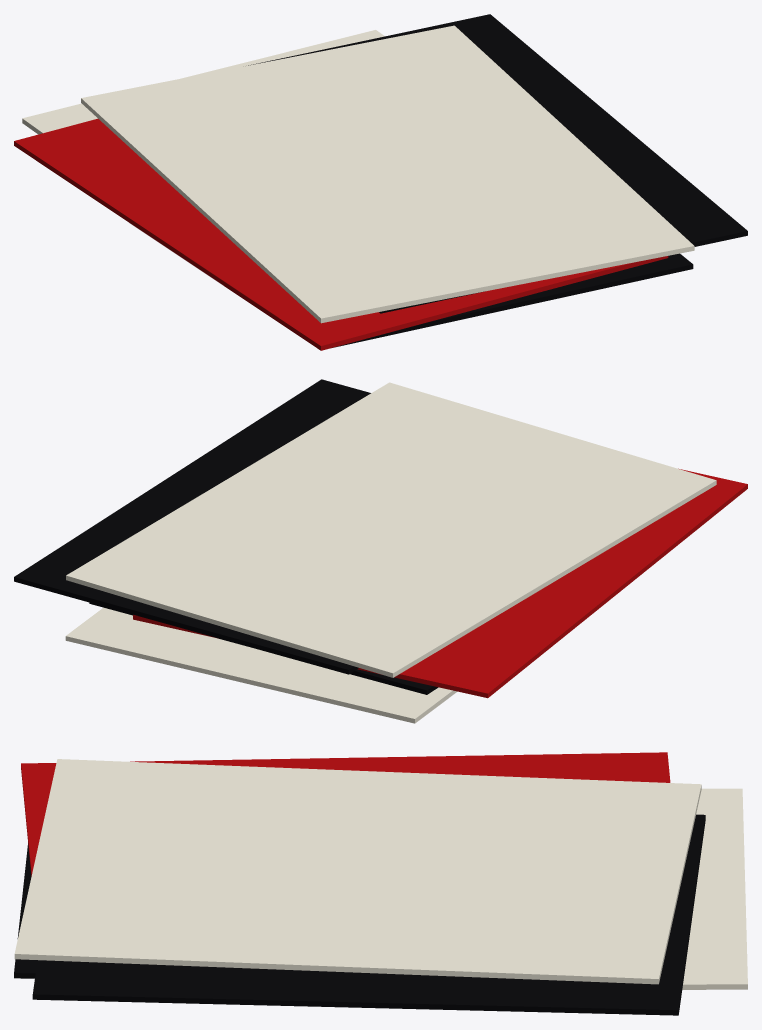
The model's file is Item_OR_Cards_14.glb.
3 views of the same model, one above another, from view 1: azimuth 30°, elevation 25°; view 2: azimuth 150°, elevation 25°; view 3: azimuth 270°, elevation 25° (orthographic). The views are drawn at different scales.
Visible parts, largest first — view 1: Item_OR_Cards_14; view 2: Item_OR_Cards_14; view 3: Item_OR_Cards_14.
Boxes of the visible parts, x1,y1,x2,y2 form: Item_OR_Cards_14: [14, 14, 747, 350]; Item_OR_Cards_14: [14, 379, 747, 723]; Item_OR_Cards_14: [14, 752, 747, 1015].
Bounding box in the file's own units: 0.0852 × 0.0048 × 0.0998.
